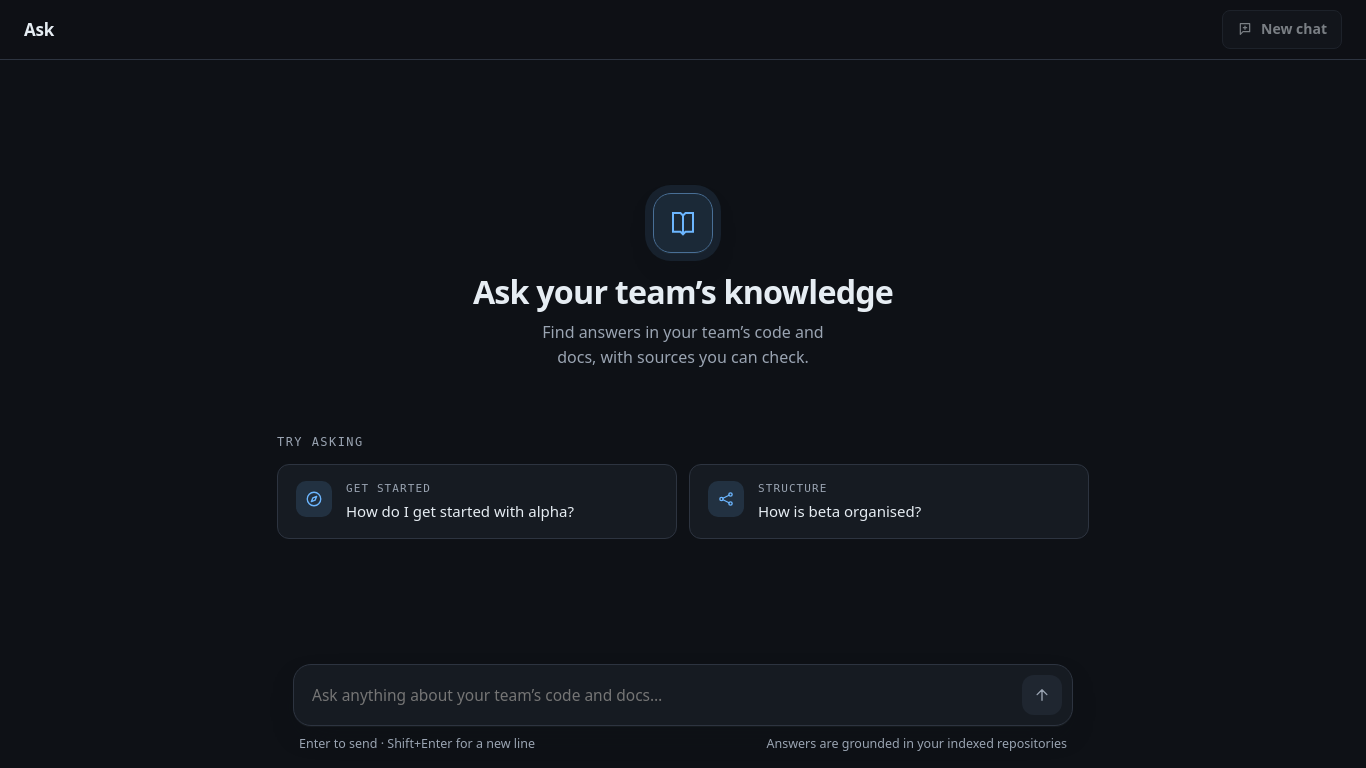
Test: Ask as a chat thread › New chat clears the whole conversation and restores the hero
Type "When are deploys frozen?" into the text box named "Your question" at {"x": 662, "y": 696}, box [312,676,1012,715]
Then press Enter
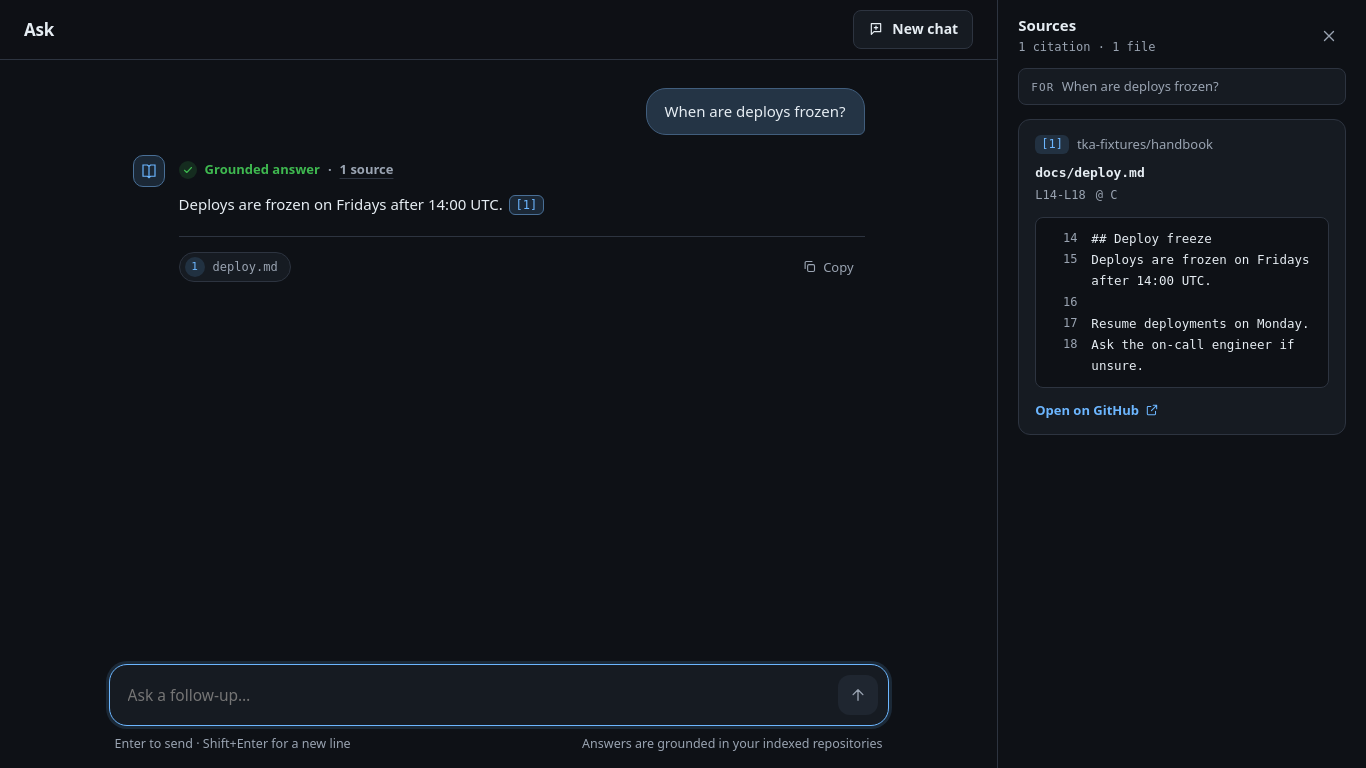
Expected: the button named "Show citation 1" is shown, [509,195,544,215]
Expected: the heading "Ask your team’s knowledge" is gone
Click the button "New chat" at {"x": 913, "y": 30}, box [853,10,973,49]
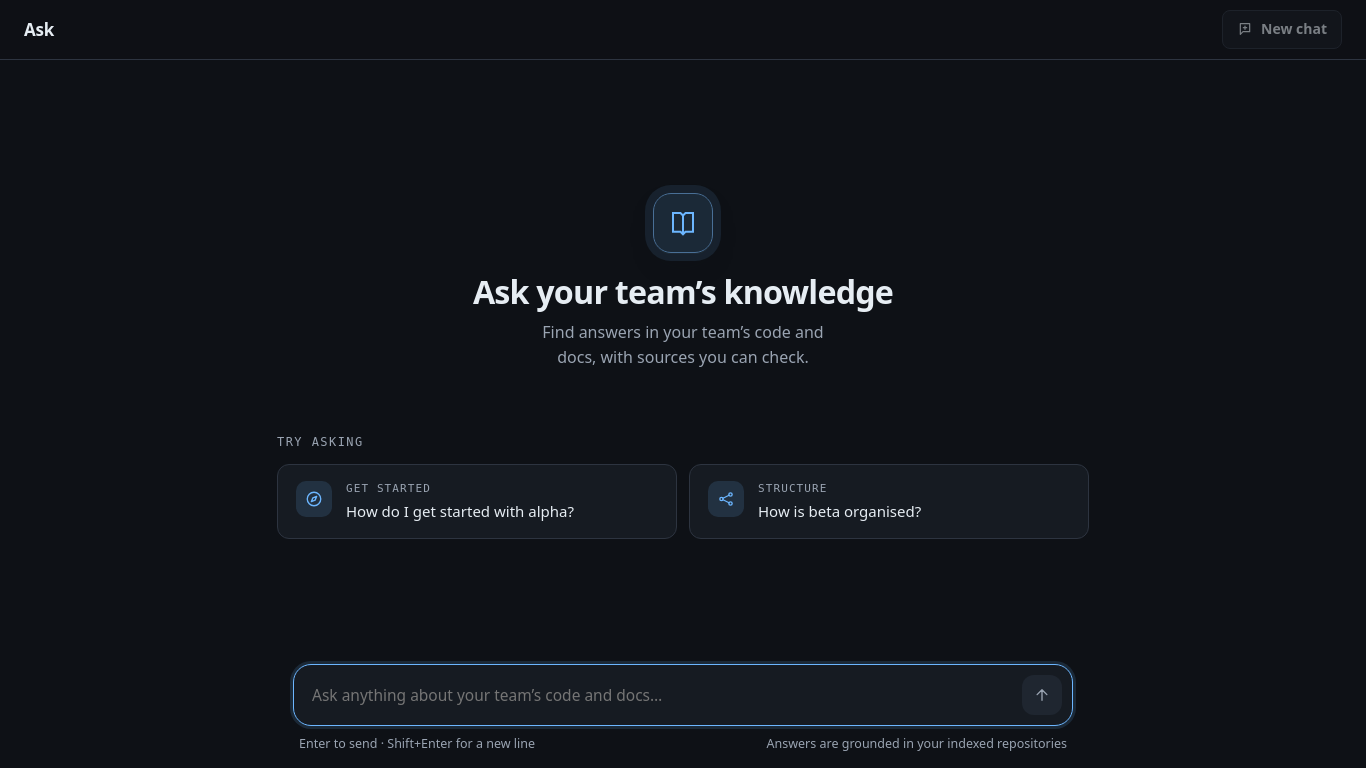
Expected: the heading "Ask your team’s knowledge" is shown, [473,273,893,310]
